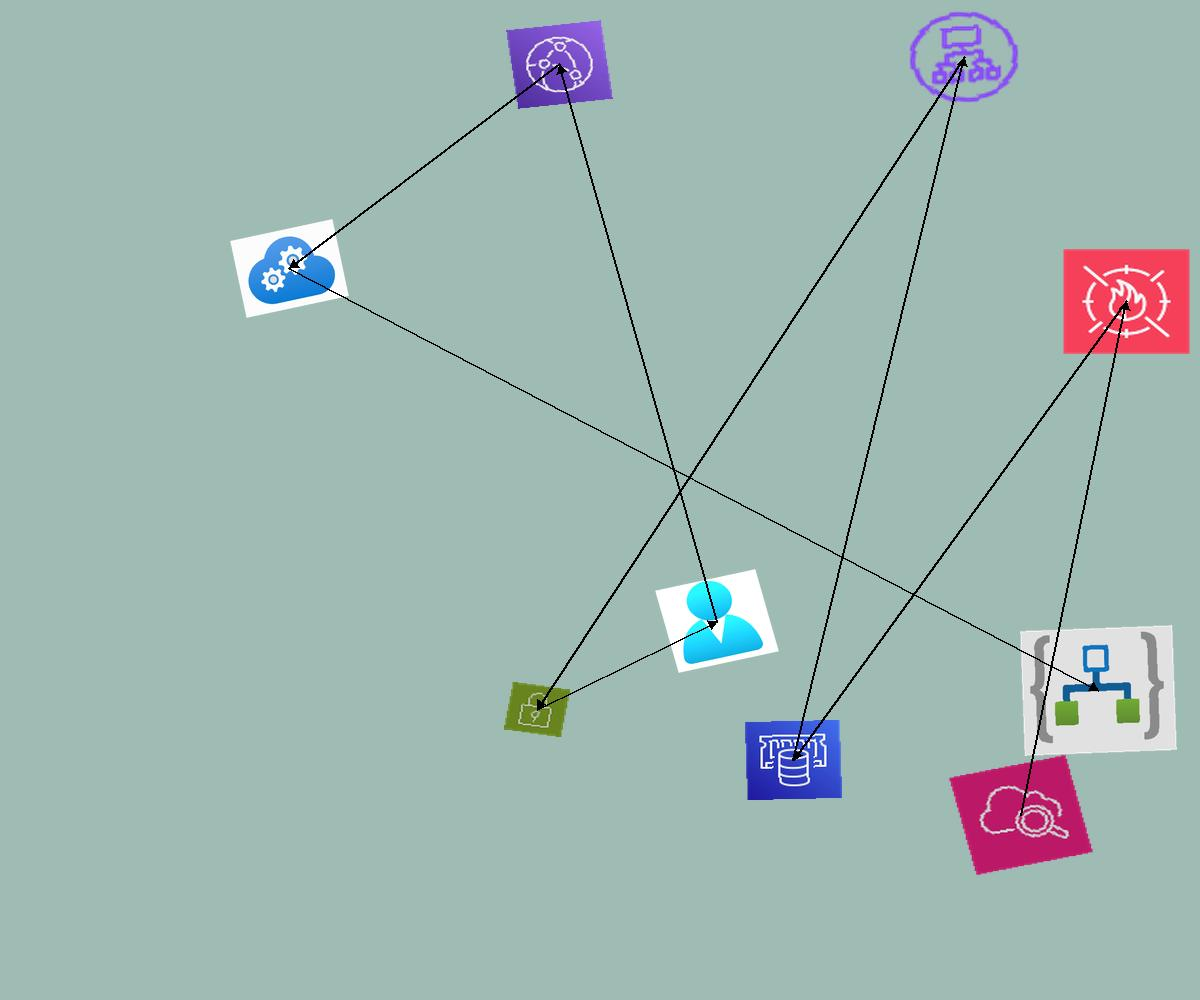AWS-CloudFront: (506, 20, 613, 109)
AWS-CloudWatch: (948, 754, 1094, 876)
AWS-ElastiCache: (744, 719, 843, 801)
AWS-Public-subnet: (504, 682, 570, 737)
AWS-Res_Elastic-Load-Balancing_Application-Load-Balancer: (898, 2, 1030, 112)
AWS-WAF: (1062, 248, 1191, 355)
Azure_cloud_services: (230, 219, 349, 318)
Azure_integration-204-Logic-Apps: (1020, 625, 1177, 756)
Azure_users: (655, 569, 779, 673)
